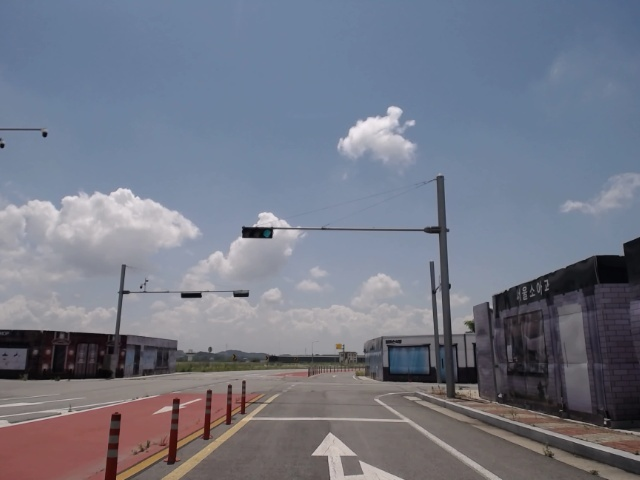green_3: (243, 227, 273, 238)
